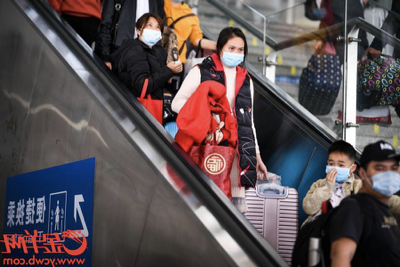with_mask: (368, 163, 399, 198), (324, 159, 351, 183), (140, 21, 162, 47), (222, 45, 246, 67)
